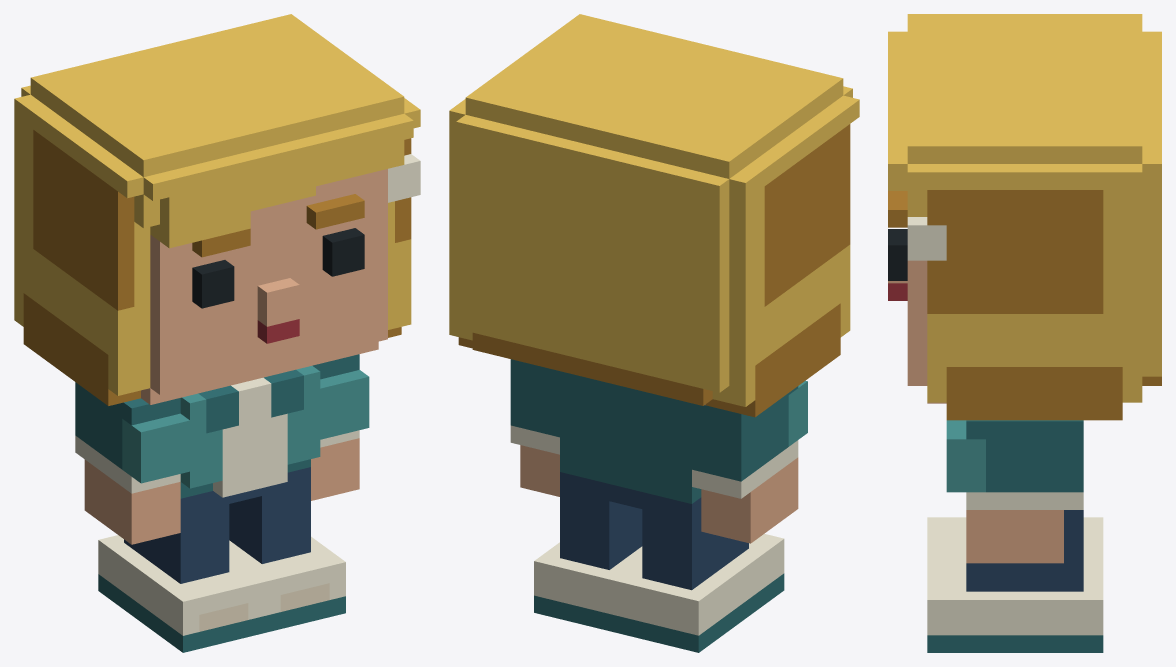
File: blonde_lady.glb
3 views of the same model, side by side, from view 1: azimuth 30°, elevation 25°; view 2: azimuth 150°, elevation 25°; view 3: azimuth 270°, elevation 25° (orthographic). The views are drawn at different scales.
Parts seen in each view (by area): view 1: head, leg_left, torso, arm_left, leg_right, arm_right; view 2: head, leg_left, torso, arm_left, leg_right, arm_right; view 3: head, arm_right, leg_right, leg_left.
Boxes of the visible parts, left/top/right/bottom form: head: left=14, top=14, right=420, bottom=405; leg_left: left=98, top=504, right=264, bottom=652; torso: left=180, top=366, right=320, bottom=515; arm_left: left=75, top=382, right=189, bottom=544; leg_right: left=229, top=484, right=345, bottom=632; arm_right: left=311, top=354, right=369, bottom=500; head: left=449, top=14, right=859, bottom=417; leg_left: left=616, top=509, right=784, bottom=652; torso: left=560, top=371, right=701, bottom=521; arm_left: left=692, top=380, right=807, bottom=543; leg_right: left=534, top=489, right=642, bottom=632; arm_right: left=510, top=359, right=559, bottom=496; head: left=888, top=14, right=1161, bottom=420; arm_right: left=946, top=420, right=1083, bottom=563; leg_right: left=927, top=520, right=1103, bottom=652; leg_left: left=927, top=517, right=1103, bottom=558.
Size of the model in its own units: 0.9 by 1.5 by 0.7.
Materials: 1 (1 with a texture image).
